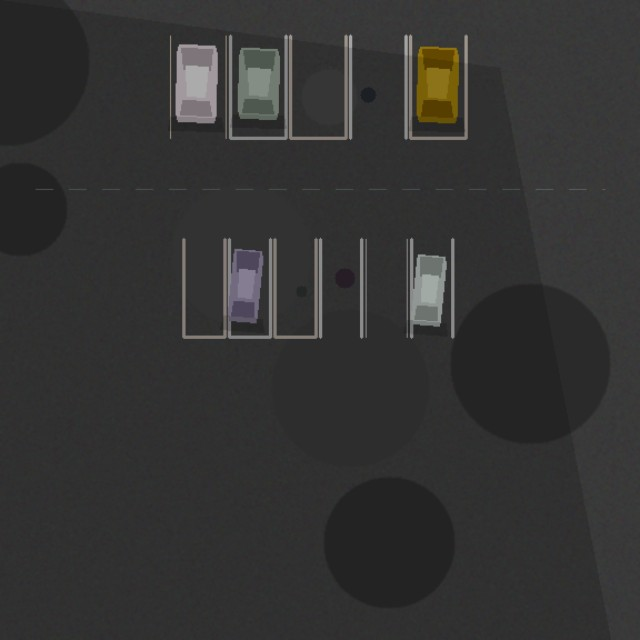space-empty: (290, 36, 346, 138), (350, 36, 406, 138), (274, 239, 316, 337), (183, 239, 224, 337), (320, 239, 361, 337), (366, 239, 407, 337)
space-occupied: (170, 36, 226, 138), (230, 36, 286, 138), (410, 36, 466, 138), (229, 239, 270, 337), (411, 239, 452, 337)
